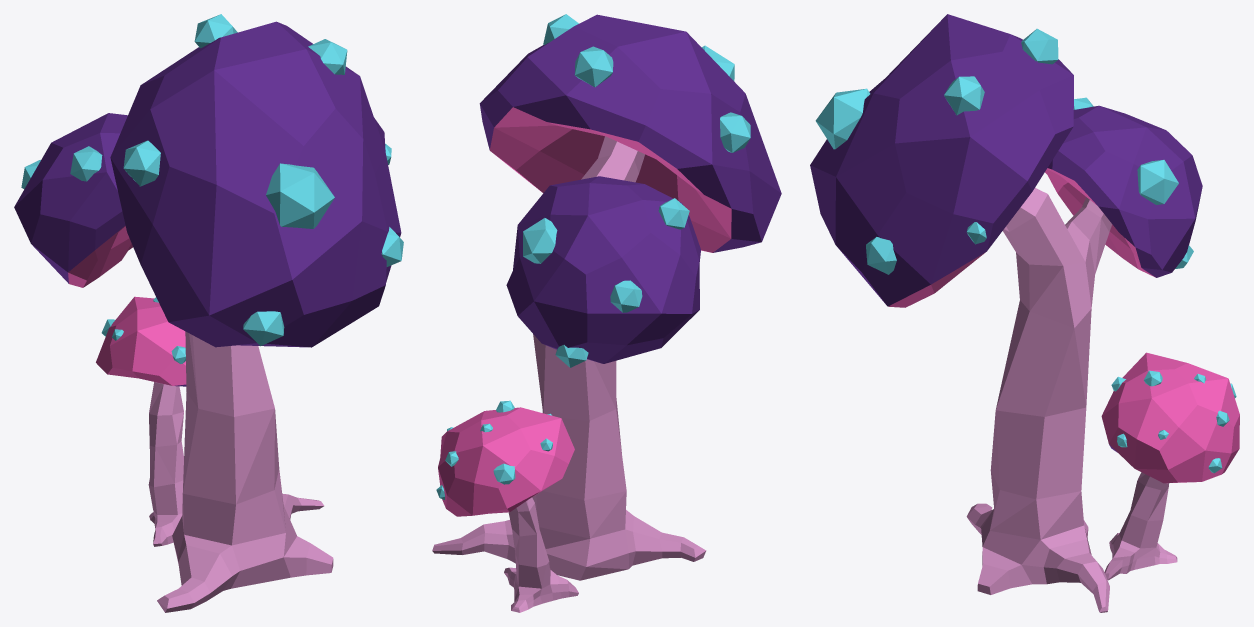
The model's file is Mushroom_Tree_03_OLD.fbx.
The picture shows the model from 3 angles, left to right: view 1: azimuth 30°, elevation 25°; view 2: azimuth 150°, elevation 25°; view 3: azimuth 270°, elevation 25°; orthographic projection. The views are drawn at different scales.
Parts seen in each view (by area): view 1: Mushroom_Tree_3; view 2: Mushroom_Tree_3; view 3: Mushroom_Tree_3.
Part boxes in pixels (left/top/right/bottom): Mushroom_Tree_3: left=14, top=14, right=403, bottom=612; Mushroom_Tree_3: left=432, top=14, right=781, bottom=612; Mushroom_Tree_3: left=810, top=14, right=1239, bottom=612.
Bounding box in the file's own units: 232 × 425 × 317.
